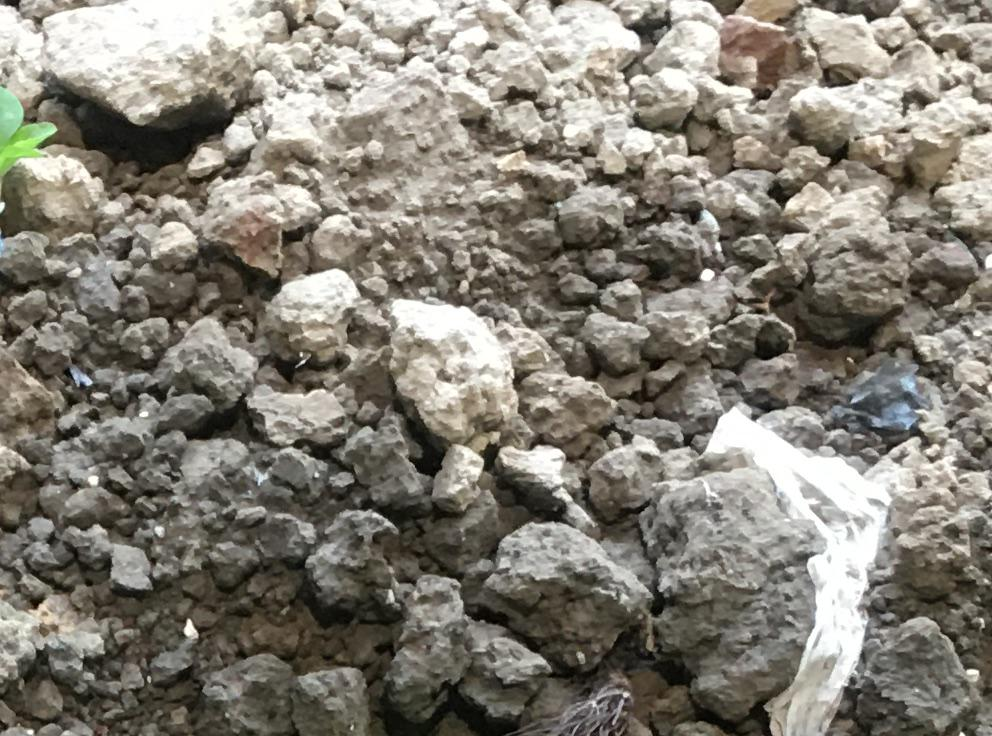block: (649, 468, 817, 716), (34, 1, 281, 126), (477, 519, 644, 679), (382, 295, 522, 455), (791, 192, 909, 337)
